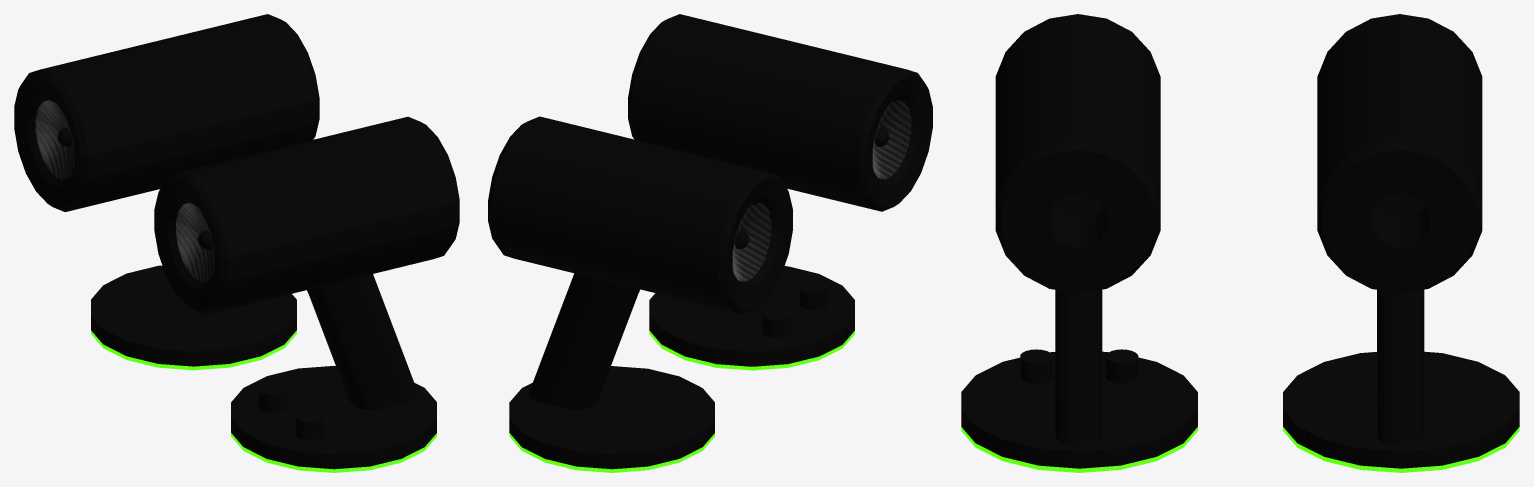
Rendered from speaker.glb.
3 renders of one model, left to right at view 1: azimuth 30°, elevation 25°; view 2: azimuth 150°, elevation 25°; view 3: azimuth 270°, elevation 25°, orthographic. The views are drawn at different scales.
Visible parts, largest first — view 1: Cylinder012, Cylinder018, Cylinder010, Cylinder016, Cylinder011, Cylinder014, Cylinder015; view 2: Cylinder018, Cylinder012, Cylinder016, Cylinder010, Cylinder017, Cylinder014, Cylinder015; view 3: Cylinder012, Cylinder018, Cylinder016, Cylinder010, Cylinder017, Cylinder011, Cylinder015, Cylinder014.
Part boxes in pixels (box(x1,y1,x2,y2)): Cylinder012: box(154, 116, 459, 314); Cylinder018: box(14, 14, 319, 211); Cylinder010: box(231, 366, 436, 472); Cylinder016: box(91, 265, 296, 370); Cylinder011: box(307, 274, 418, 409); Cylinder014: box(295, 410, 323, 440); Cylinder015: box(258, 383, 286, 412); Cylinder018: box(488, 116, 792, 313); Cylinder012: box(628, 14, 932, 211); Cylinder016: box(509, 366, 714, 472); Cylinder010: box(649, 266, 854, 370); Cylinder017: box(529, 273, 640, 409); Cylinder014: box(799, 280, 827, 310); Cylinder015: box(762, 308, 790, 337); Cylinder012: box(995, 14, 1160, 293); Cylinder018: box(1317, 14, 1482, 293); Cylinder016: box(1283, 351, 1519, 472); Cylinder010: box(961, 351, 1197, 472); Cylinder017: box(1377, 193, 1424, 446); Cylinder011: box(1055, 193, 1102, 446); Cylinder015: box(1105, 349, 1138, 383); Cylinder014: box(1020, 349, 1052, 383).
Bounding box in the file's own units: 37.5 × 43.08 × 66.3.
Materials: 3 (1 with a texture image).
